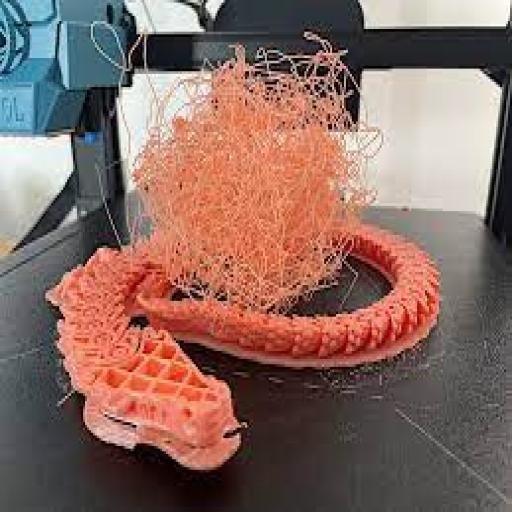spaghetti: (118, 24, 354, 338)
